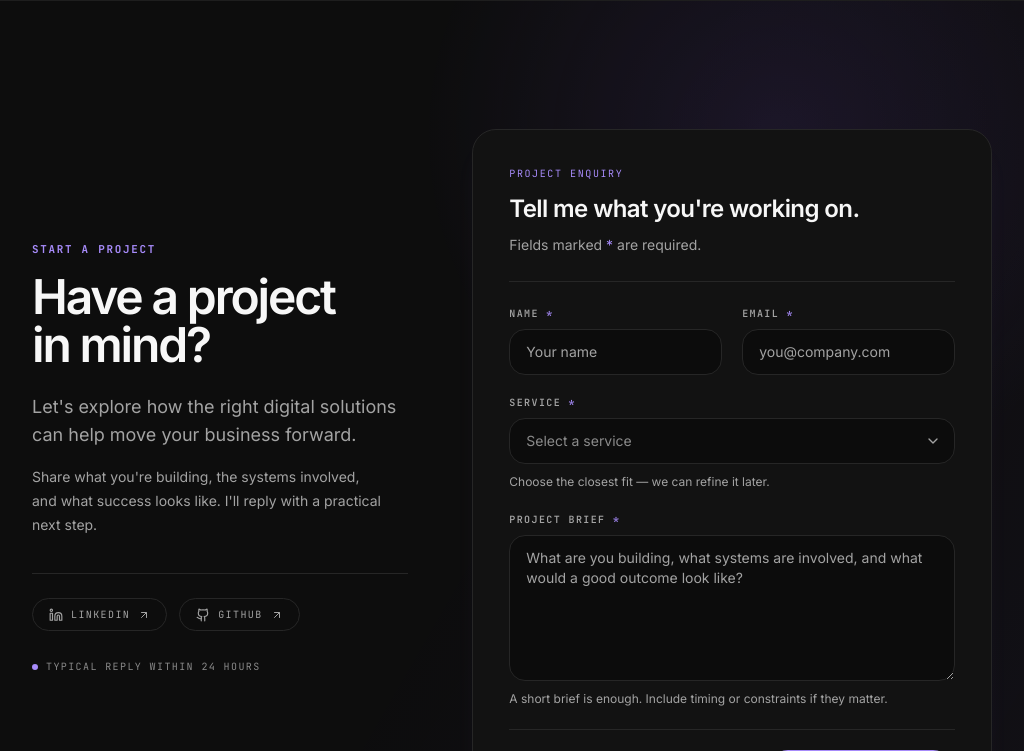
Test: ContactSection › shows a network error without clearing the form
This screenshot has width=1024, height=751.
Type "Alex" into the field labelled "Name *" at (616, 352), box 509,329 -> 722,375
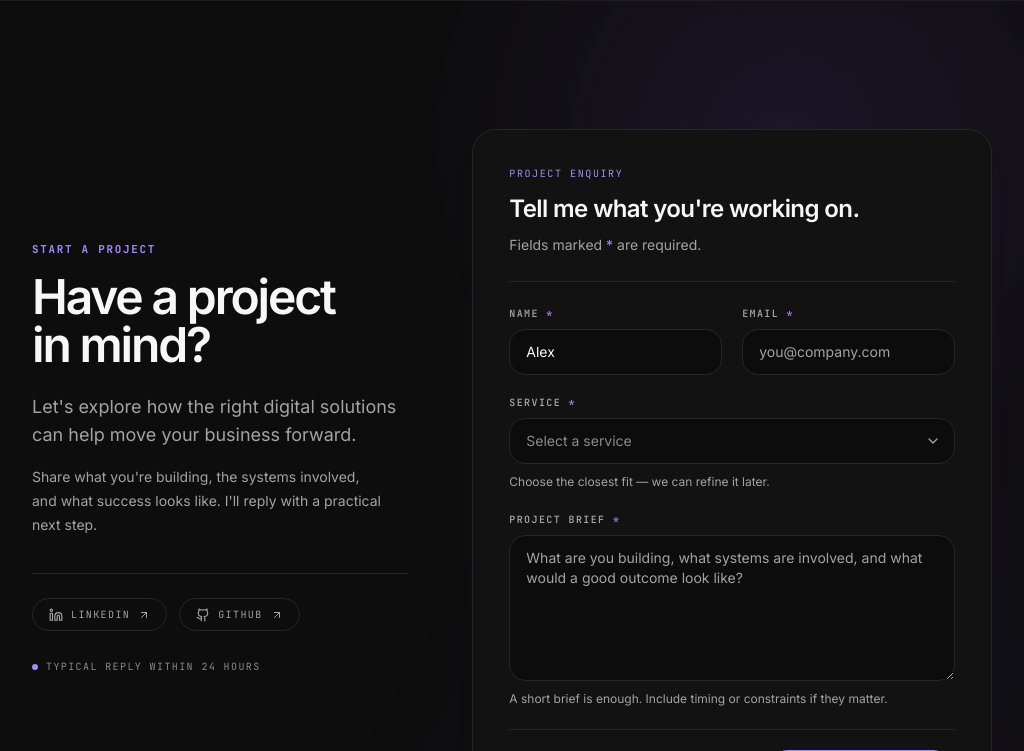
Type "alex@example.com" into the field labelled "Email *" at (849, 352), box 742,329 -> 955,375
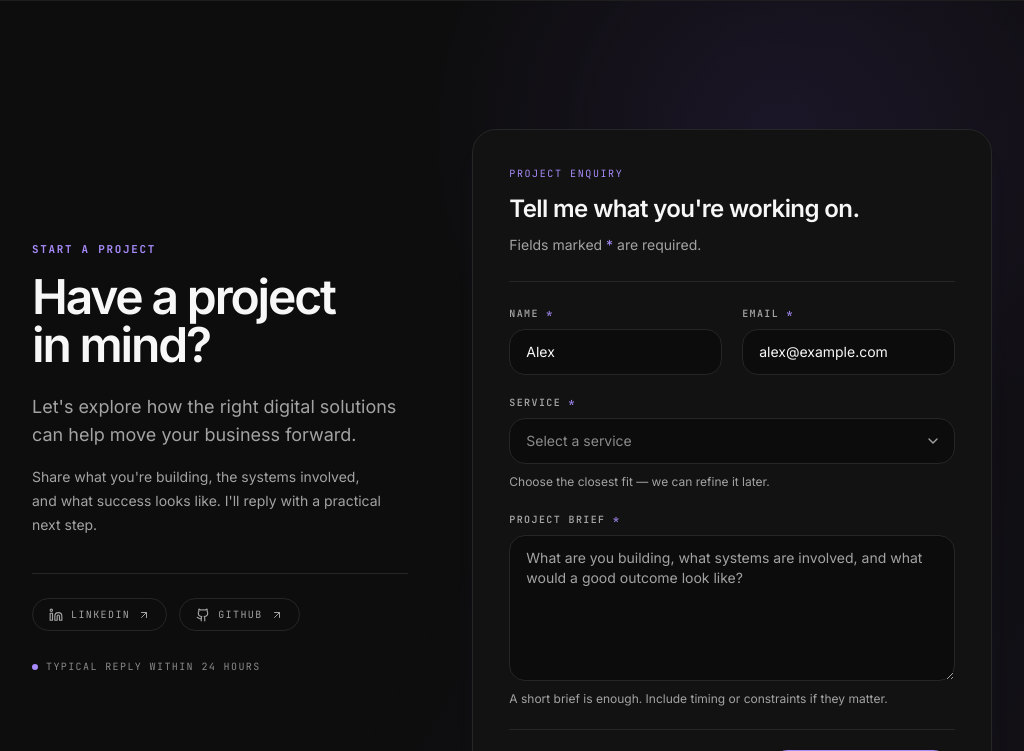
Select "Web Development" in the dropdown labelled "Service *" at (732, 441), box 509,418 -> 955,464
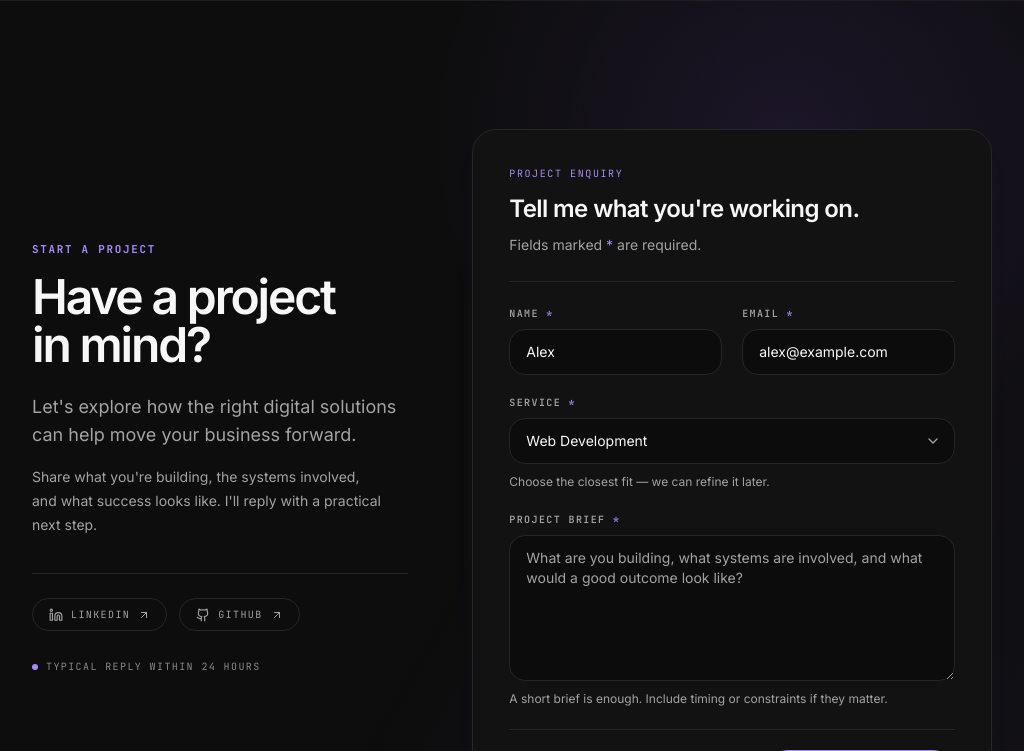
Replace the text in the text box labelled "Project brief *" with "A new marketing site with a small CMS." at (732, 608), box 509,535 -> 955,681
(page scrolled)
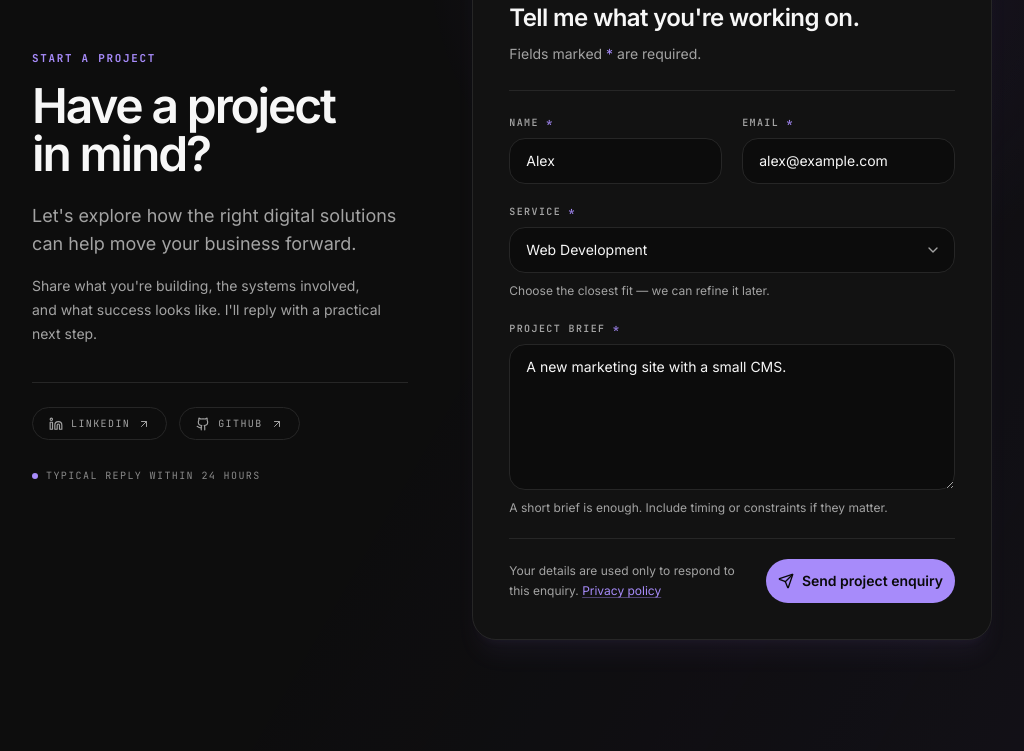
Click the button "Send project enquiry" at (860, 581), box 766,559 -> 955,603
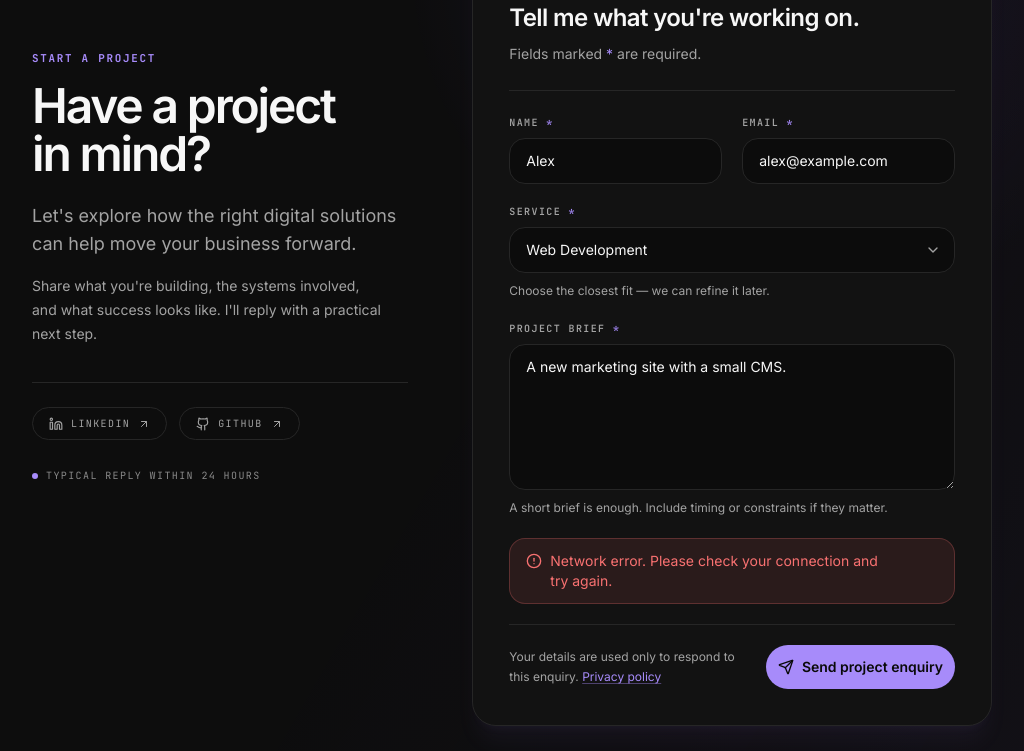
Expected: the form is shown, 509,115 -> 955,689
Expected: the message shows "Network error", 550,552 -> 878,589
